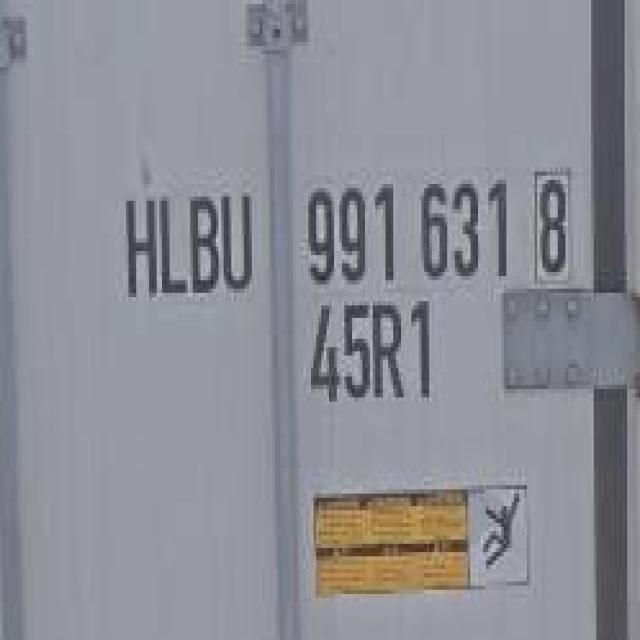dv: (528, 162, 574, 288)
owner: (112, 166, 256, 306)
serial: (303, 159, 510, 288)
size: (308, 295, 440, 410)
